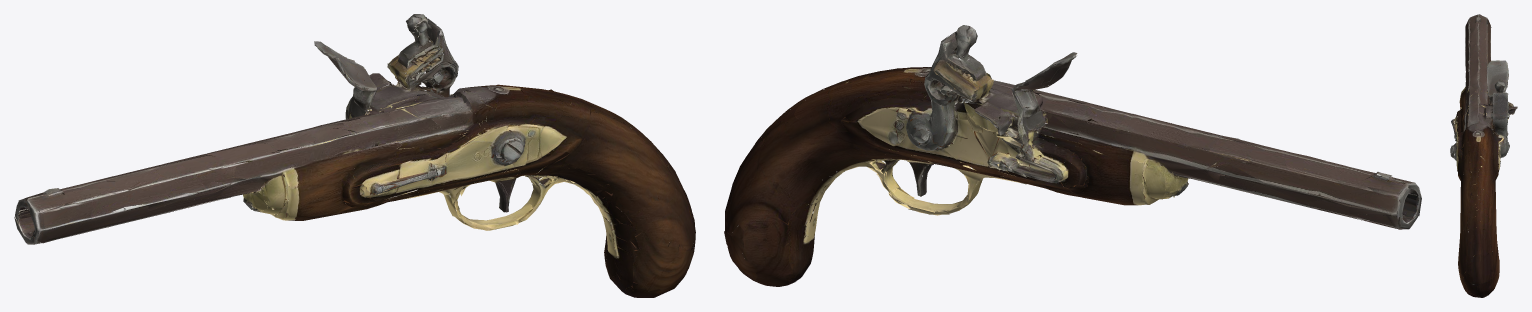
File: flintlock-pistol.glb
3 views of the same model, side by side, from view 1: azimuth 30°, elevation 25°; view 2: azimuth 150°, elevation 25°; view 3: azimuth 270°, elevation 25° (orthographic). The views are drawn at different scales.
Parts seen in each view (by area): view 1: flintlock-pistol; view 2: flintlock-pistol; view 3: flintlock-pistol.
Boxes of the visible parts, x1,y1,x2,y2 form: flintlock-pistol: (14, 14, 695, 297); flintlock-pistol: (724, 25, 1421, 286); flintlock-pistol: (1450, 14, 1517, 297).
Bounding box in the file's own units: 0.4 × 0.1817 × 0.0688.
Materials: 1 (1 with a texture image).
